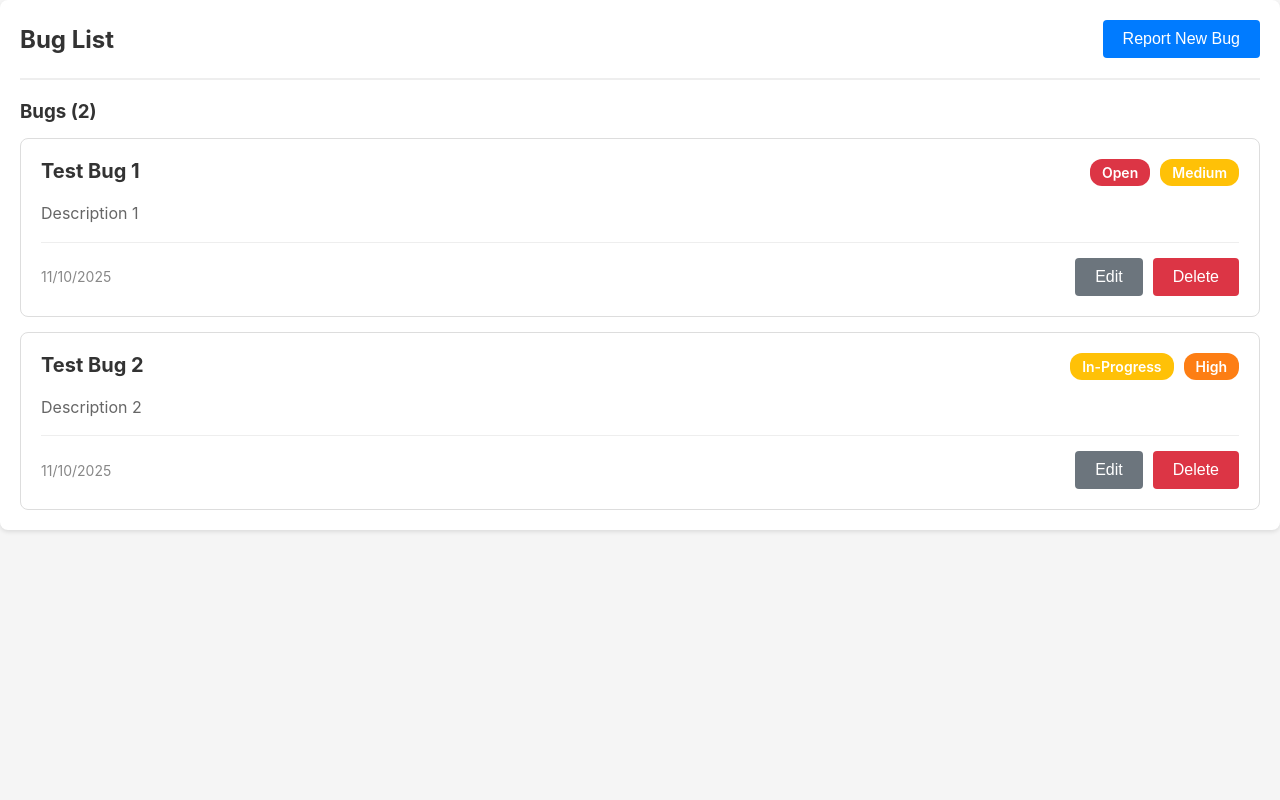
Scenario: BugTracker Integration Tests › should create new bug and add it to the list
Check: the element with test id "bug-list" is shown, box [20,100,1260,510]
Note: Open form
Click the button with test id "toggle-form-button" at (1181, 39), box [1103,20,1260,58]
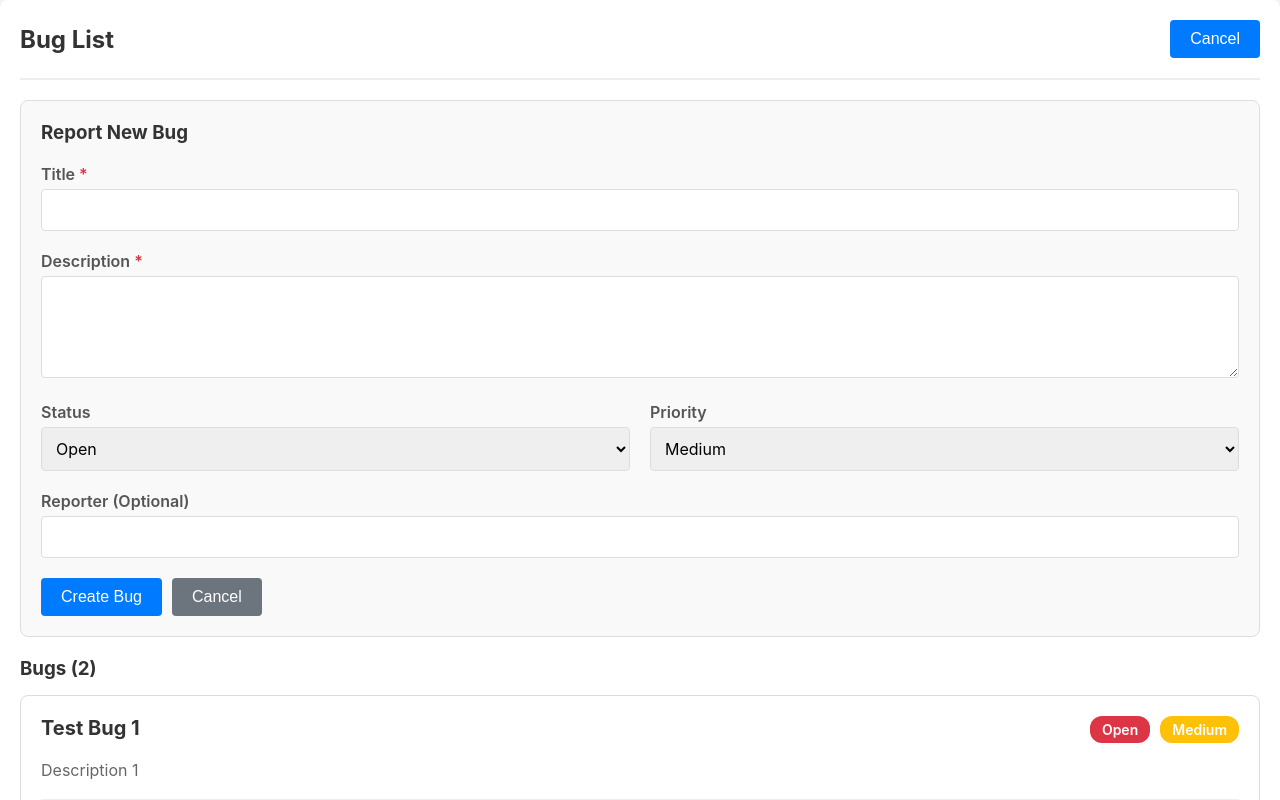
Note: Fill form
Type "New Bug" into the field with test id "title-input" at (640, 210), box [41,189,1239,231]
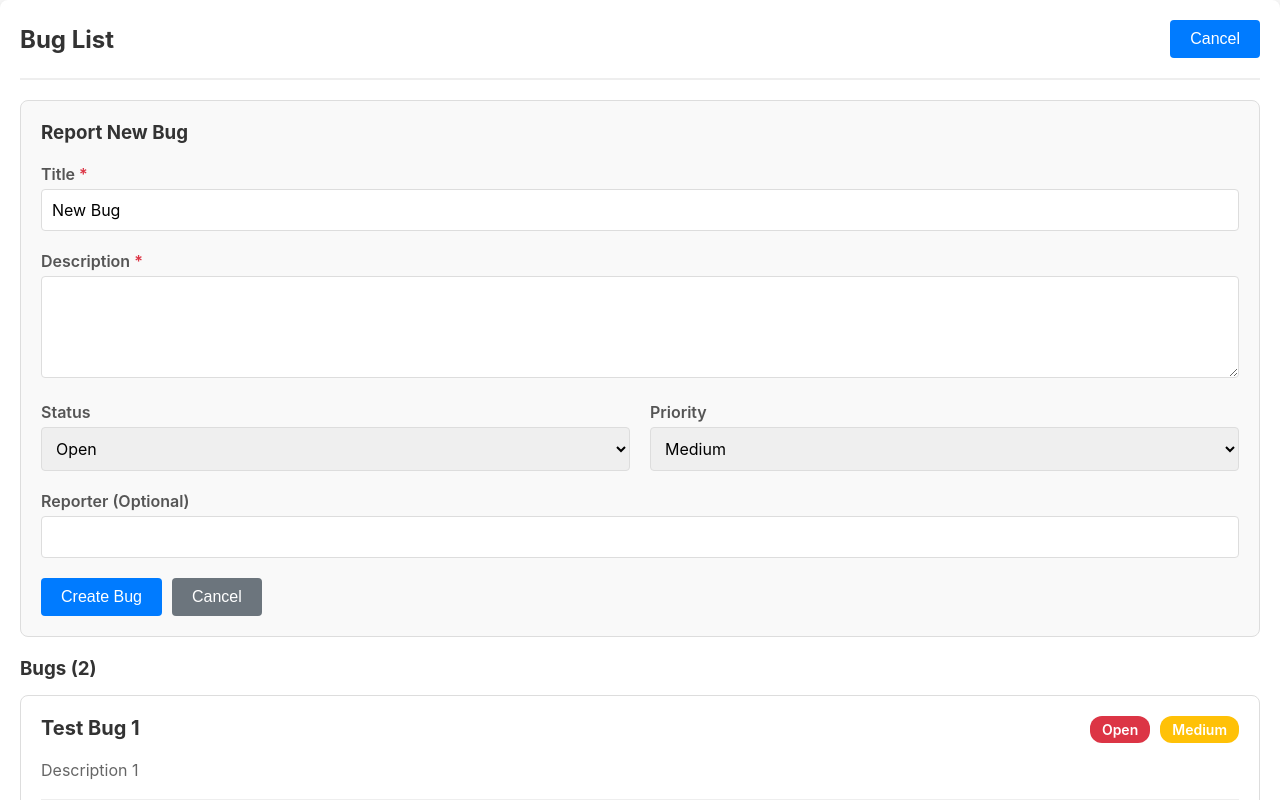
Type "New Description" into the text box with test id "description-input" at (640, 327), box [41,276,1239,378]
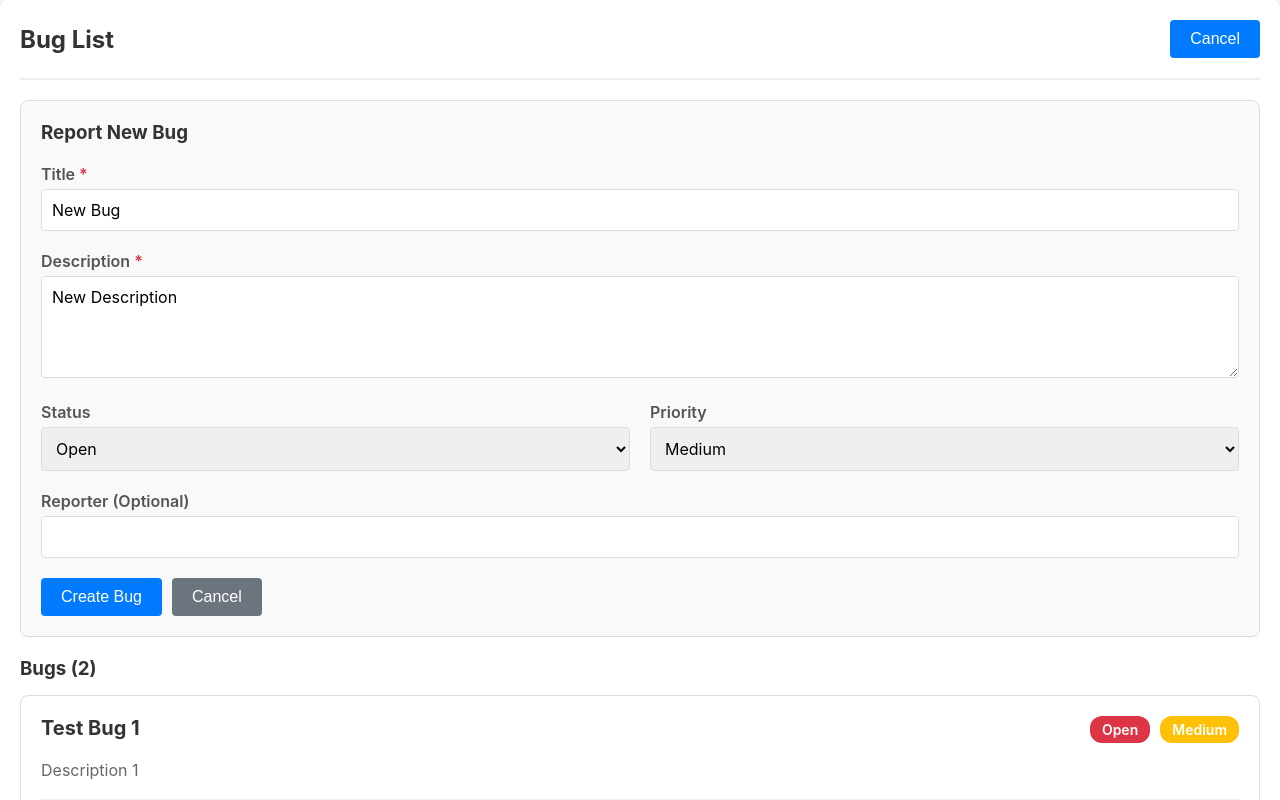
Note: Submit form
Click the button with test id "submit-button" at (101, 597), box [41,578,162,616]
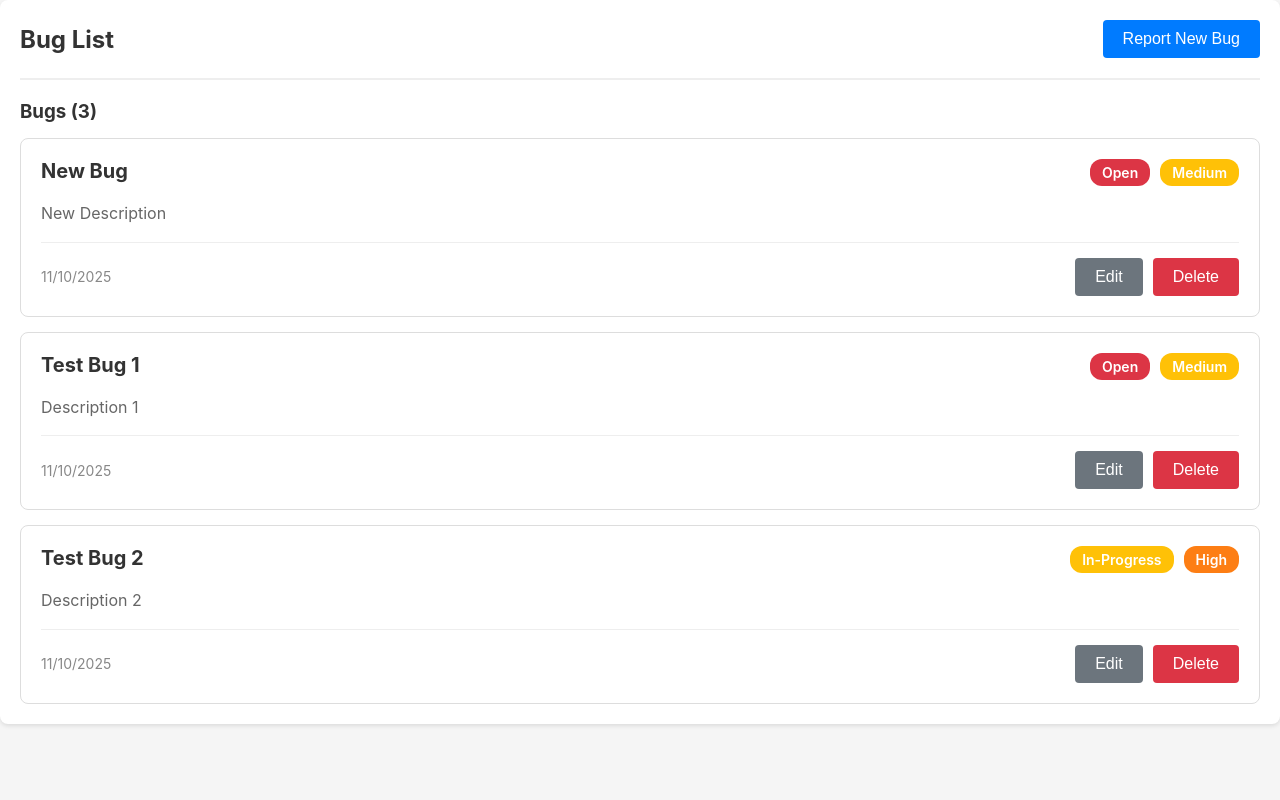
Check: the heading "New Bug" is shown, box [41,159,128,183]
